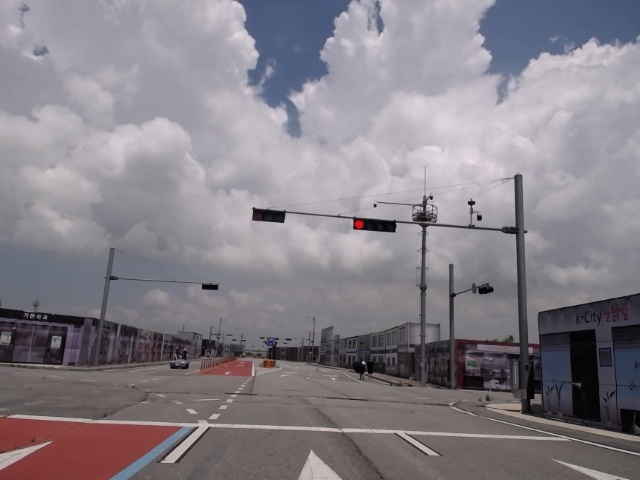red_4: (353, 218, 395, 232)
